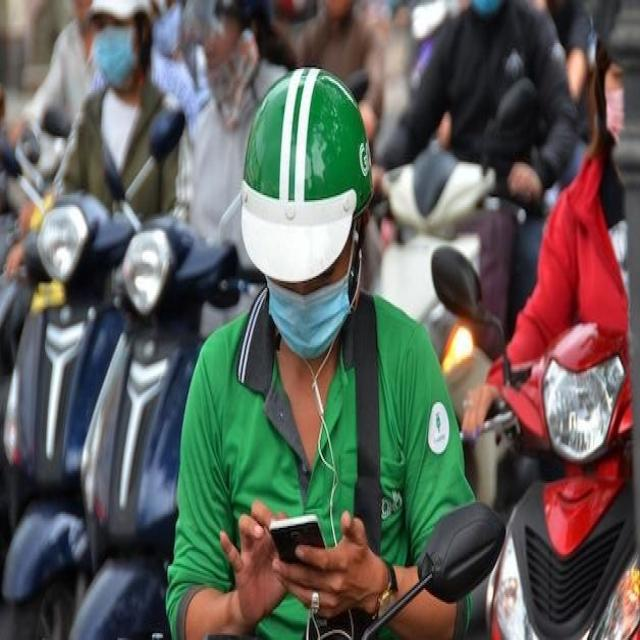helmet: (241, 66, 375, 282)
